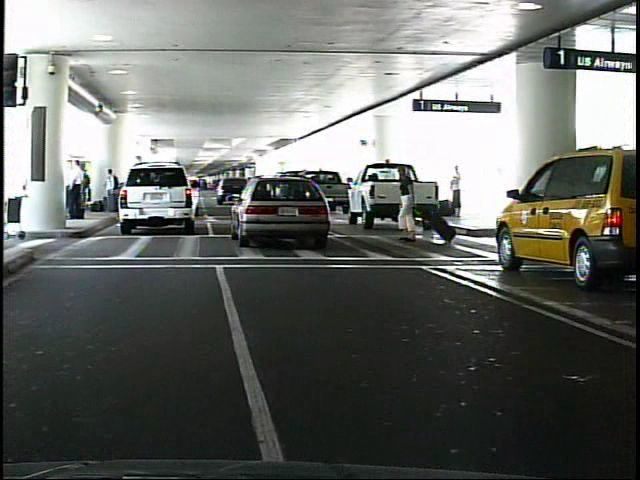person: (399, 163, 424, 246), (74, 159, 88, 221), (110, 166, 125, 220), (453, 162, 465, 213)
